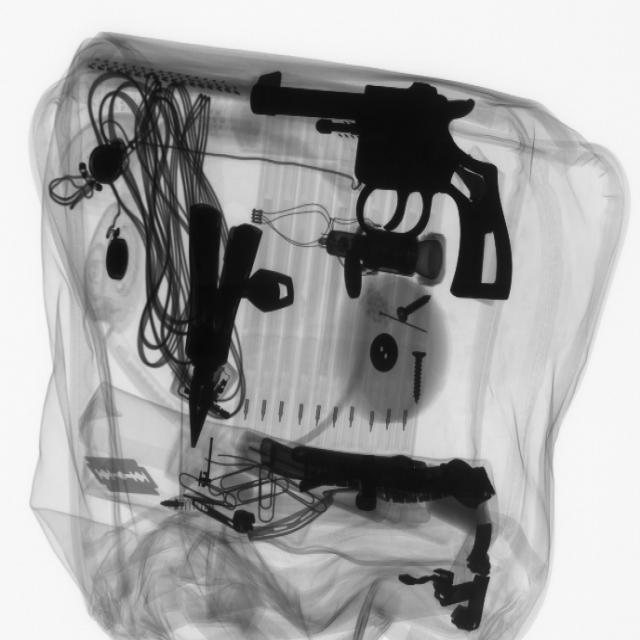BLADE: (80, 450, 164, 507)
GUN: (250, 73, 524, 306)
SCREW: (394, 346, 447, 414), (390, 286, 444, 339)
